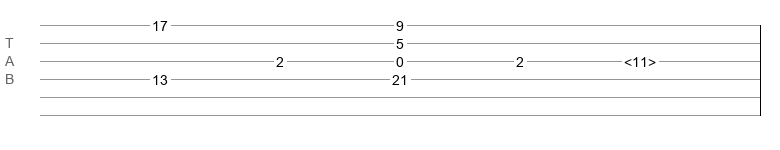0: (396, 54, 404, 64)
13: (152, 72, 168, 82)
17: (152, 18, 168, 28)
2: (276, 54, 284, 64), (516, 54, 524, 64)
21: (392, 72, 408, 82)
5: (396, 36, 404, 46)
9: (396, 18, 404, 28)
harmonic: (624, 54, 656, 64)
